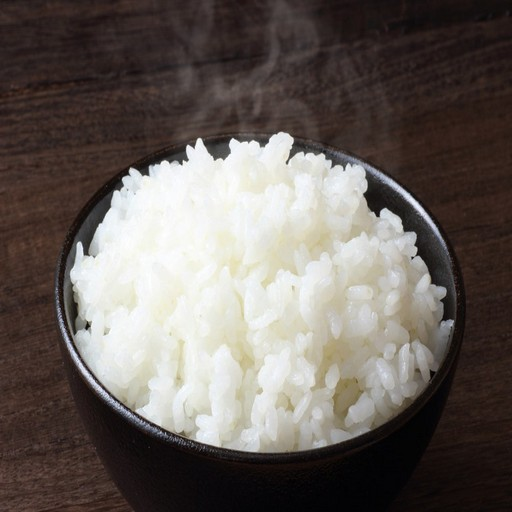rice: (191, 157, 295, 295)
